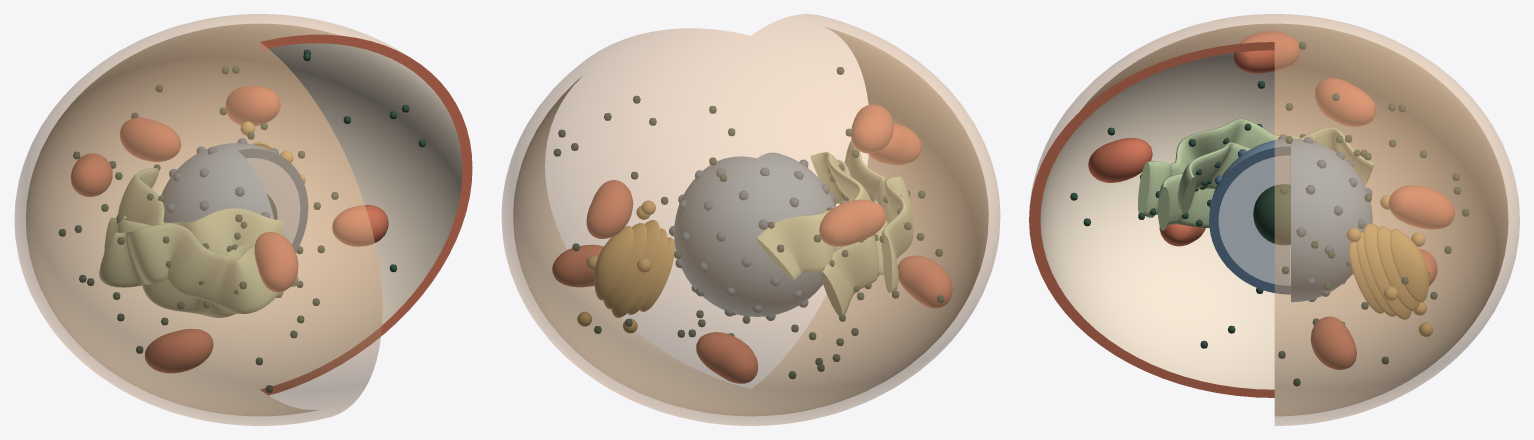
Rendered from animal-cell.glb.
The picture shows the model from 3 angles, left to right: view 1: azimuth 30°, elevation 25°; view 2: azimuth 150°, elevation 25°; view 3: azimuth 270°, elevation 25°; orthographic projection.
Visible parts, largest first — view 1: Membrane, Cytoplasm, EndoplasmicReticulum, Mitochondria, NuclearEnvelope, MembraneRim, Ribosomes, Nucleoplasm, NuclearEnvelopeRim, NuclearPores; view 2: Membrane, Cytoplasm, NuclearEnvelope, Mitochondria, EndoplasmicReticulum, Golgi, Ribosomes, NuclearPores, Vesicles; view 3: Cytoplasm, Membrane, Mitochondria, NuclearEnvelope, EndoplasmicReticulum, MembraneRim, Nucleoplasm, Golgi, Ribosomes, NuclearEnvelopeRim, Nucleolus, NuclearPores (+1 smaller).
Boxes of the visible parts, x1,y1,x2,y2 form: Membrane: (14, 14, 408, 425); Cytoplasm: (26, 23, 462, 416); EndoplasmicReticulum: (99, 168, 299, 317); Mitochondria: (70, 85, 388, 373); NuclearEnvelope: (161, 143, 280, 222); MembraneRim: (260, 34, 472, 395); Ribosomes: (58, 49, 425, 392); Nucleoplasm: (246, 158, 300, 244); NuclearEnvelopeRim: (238, 148, 308, 251); NuclearPores: (166, 138, 304, 217); Membrane: (501, 14, 1000, 425); Cytoplasm: (513, 26, 988, 416); NuclearEnvelope: (674, 152, 835, 316); Mitochondria: (552, 104, 952, 383); EndoplasmicReticulum: (756, 140, 913, 315); Golgi: (594, 220, 674, 317); Ribosomes: (553, 67, 944, 379); NuclearPores: (669, 159, 835, 320); Vesicles: (577, 200, 655, 333); Cytoplasm: (1040, 23, 1508, 416); Membrane: (1030, 14, 1519, 425); Mitochondria: (1088, 31, 1454, 369); NuclearEnvelope: (1209, 138, 1372, 302); EndoplasmicReticulum: (1138, 118, 1374, 230); MembraneRim: (1029, 42, 1274, 397); Nucleoplasm: (1218, 155, 1290, 285); Golgi: (1349, 223, 1428, 319); Ribosomes: (1070, 42, 1469, 386); NuclearEnvelopeRim: (1209, 146, 1290, 294); Nucleolus: (1253, 184, 1290, 245); NuclearPores: (1209, 134, 1372, 301).
Bounding box in the file's own units: 0.3 × 0.24 × 0.3.
